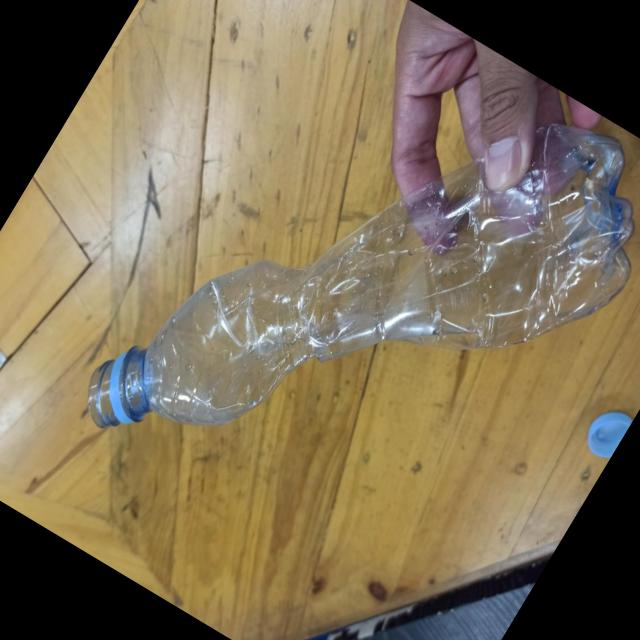BotolPlastik: (68, 0, 640, 625)
